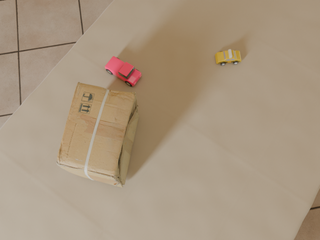box: (56, 82, 139, 187)
toy_car: (105, 56, 141, 86), (215, 49, 241, 65)
